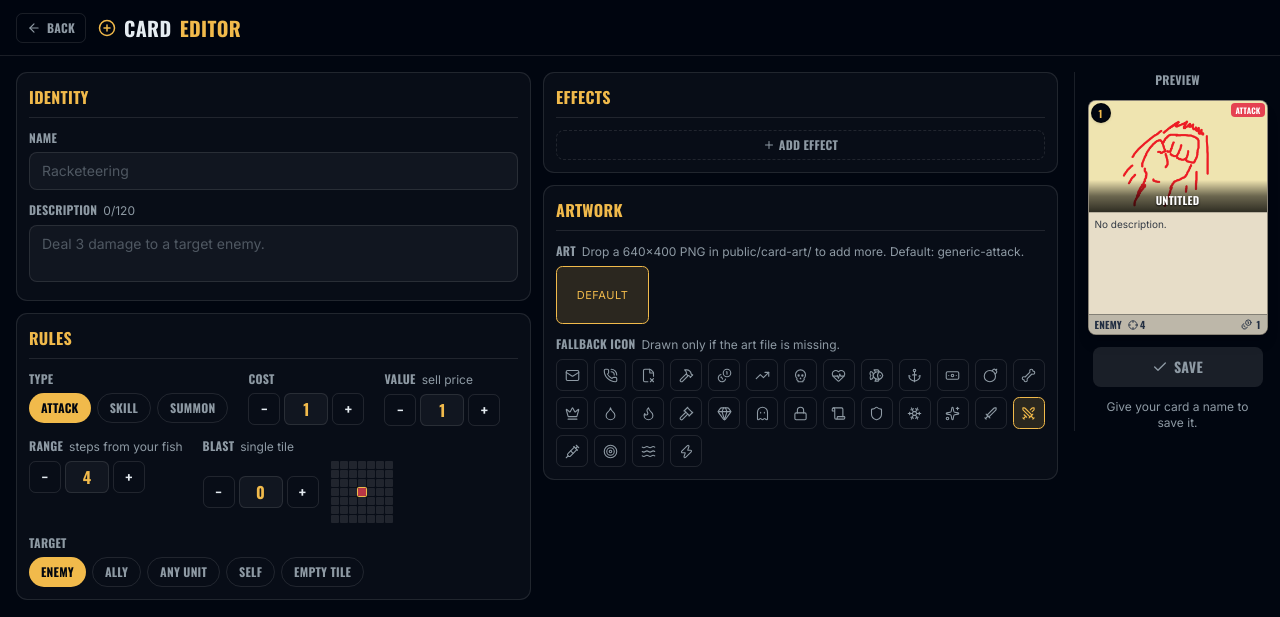
Test: CardCreateScreen › live preview updates as the name changes
Type "Kneecap Jr" into the field with placeholder "Racketeering". click: [274, 171]
box: x1=29 y1=152 x2=518 y2=190
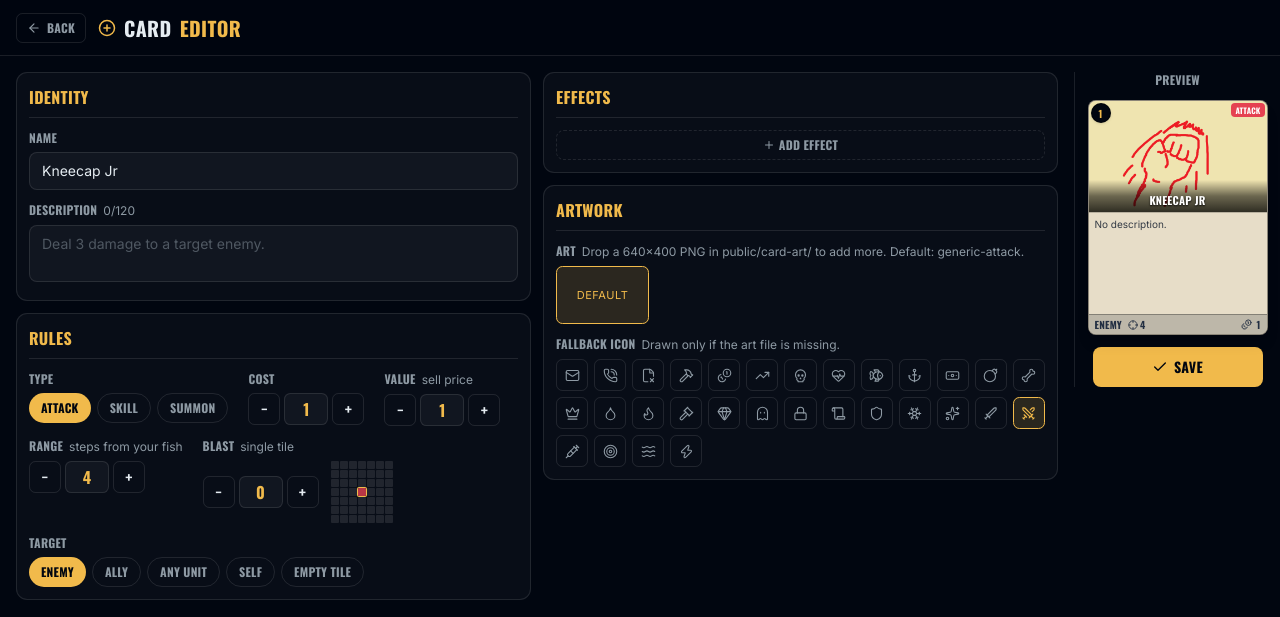
Check: the heading "Kneecap Jr" is shown, box x1=1149 y1=192 x2=1206 y2=208
